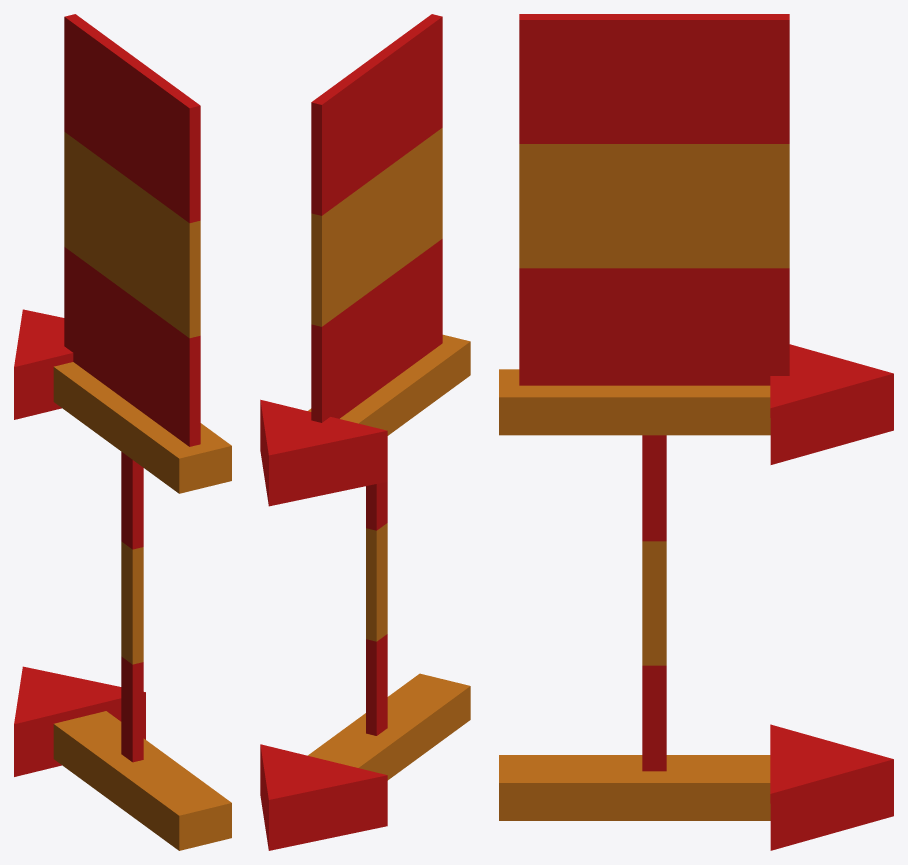
File: INVISIBLE_ZCVOBWAYPOINT.OBJ
The picture shows the model from 3 angles, left to right: view 1: azimuth 30°, elevation 25°; view 2: azimuth 150°, elevation 25°; view 3: azimuth 270°, elevation 25°; orthographic projection. The views are drawn at different scales.
Parts seen in each view (by area): view 1: INVISIBLE_ZCVOBWAYPOINT; view 2: INVISIBLE_ZCVOBWAYPOINT; view 3: INVISIBLE_ZCVOBWAYPOINT.
Boxes of the visible parts, bbox=[...] form: INVISIBLE_ZCVOBWAYPOINT: bbox=[14, 14, 231, 850]; INVISIBLE_ZCVOBWAYPOINT: bbox=[260, 14, 470, 850]; INVISIBLE_ZCVOBWAYPOINT: bbox=[499, 14, 893, 850].
Bounding box in the file's own units: 0.2 × 1.07 × 0.48.
